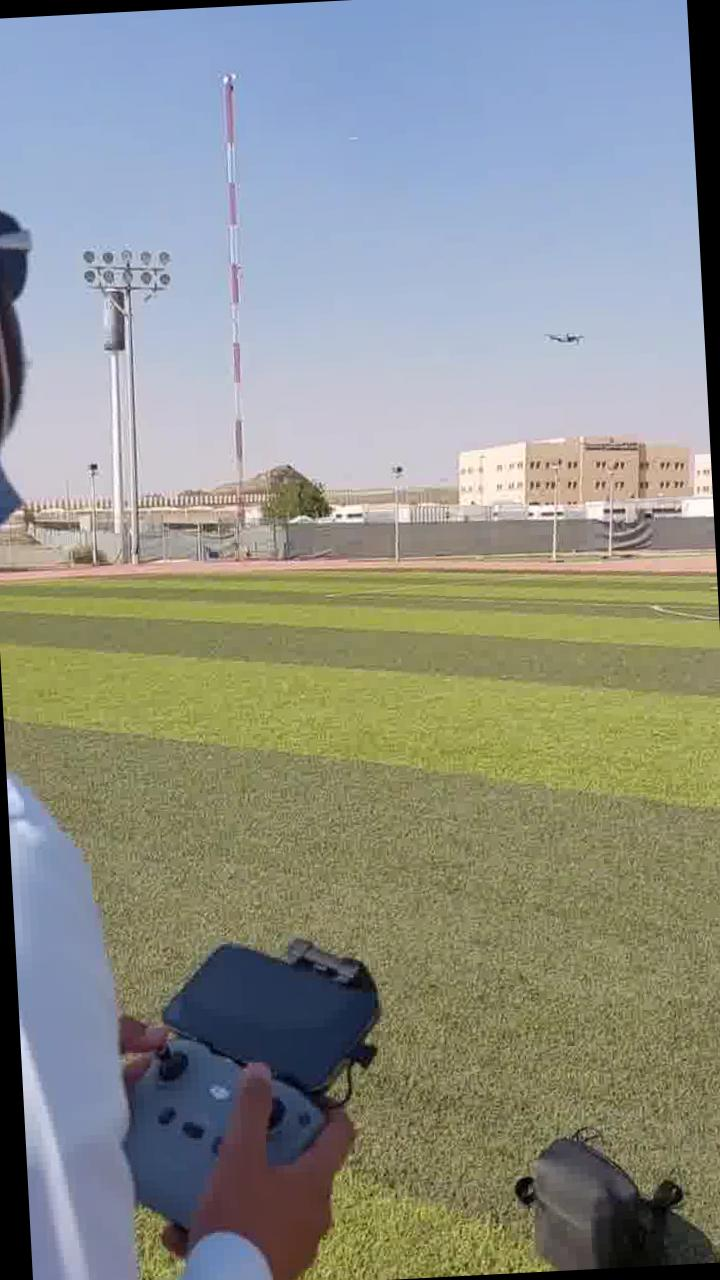drone: (535, 312, 598, 349)
